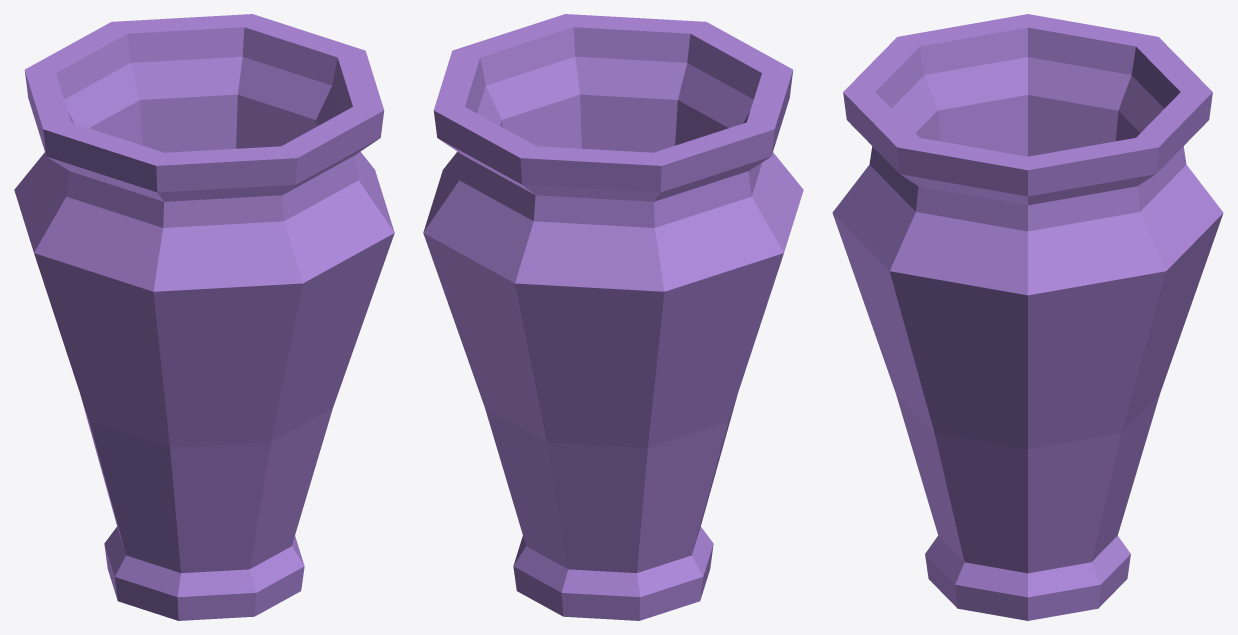
Rendered from Vase.glb.
3 renders of one model, left to right at view 1: azimuth 30°, elevation 25°; view 2: azimuth 150°, elevation 25°; view 3: azimuth 270°, elevation 25°, orthographic.
Parts seen in each view (by area): view 1: Vase; view 2: Vase; view 3: Vase.
Part boxes in pixels (<box>): Vase: <box>14,14,394,620</box>; Vase: <box>423,14,803,620</box>; Vase: <box>832,14,1223,620</box>.
Size of the model in its own units: 0.2286 by 0.3138 by 0.2286.
